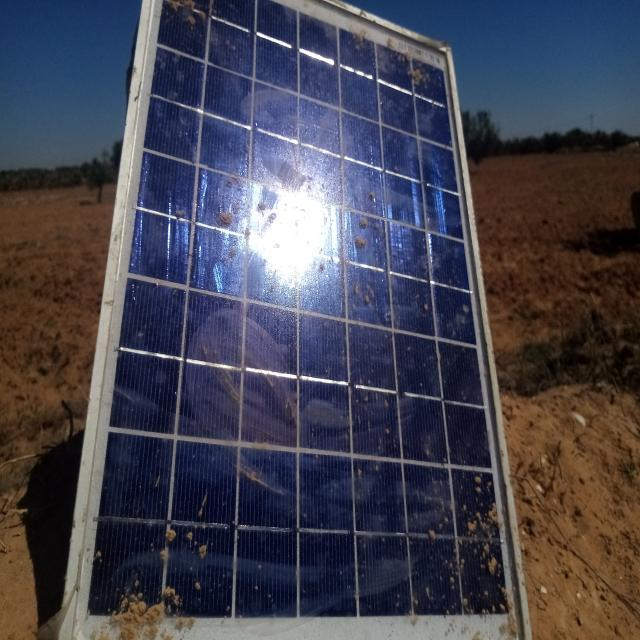faulty: (68, 0, 532, 640)
